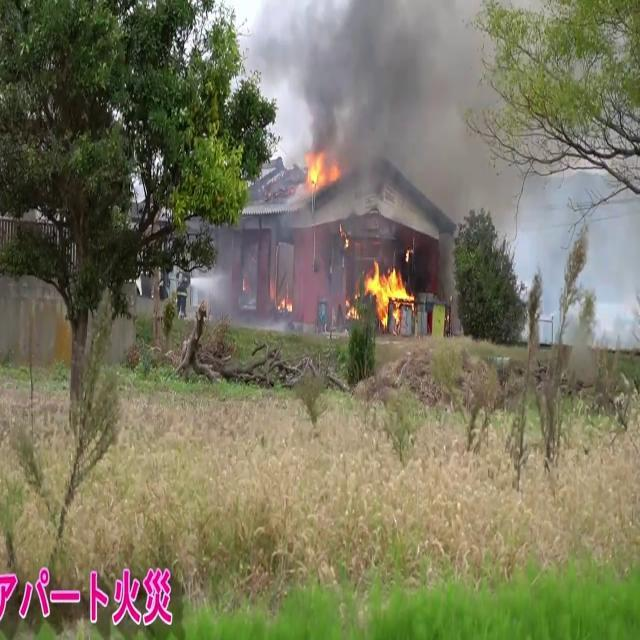Fire: (360, 254, 416, 325), (302, 146, 342, 194)
Smoke: (268, 0, 498, 212)
